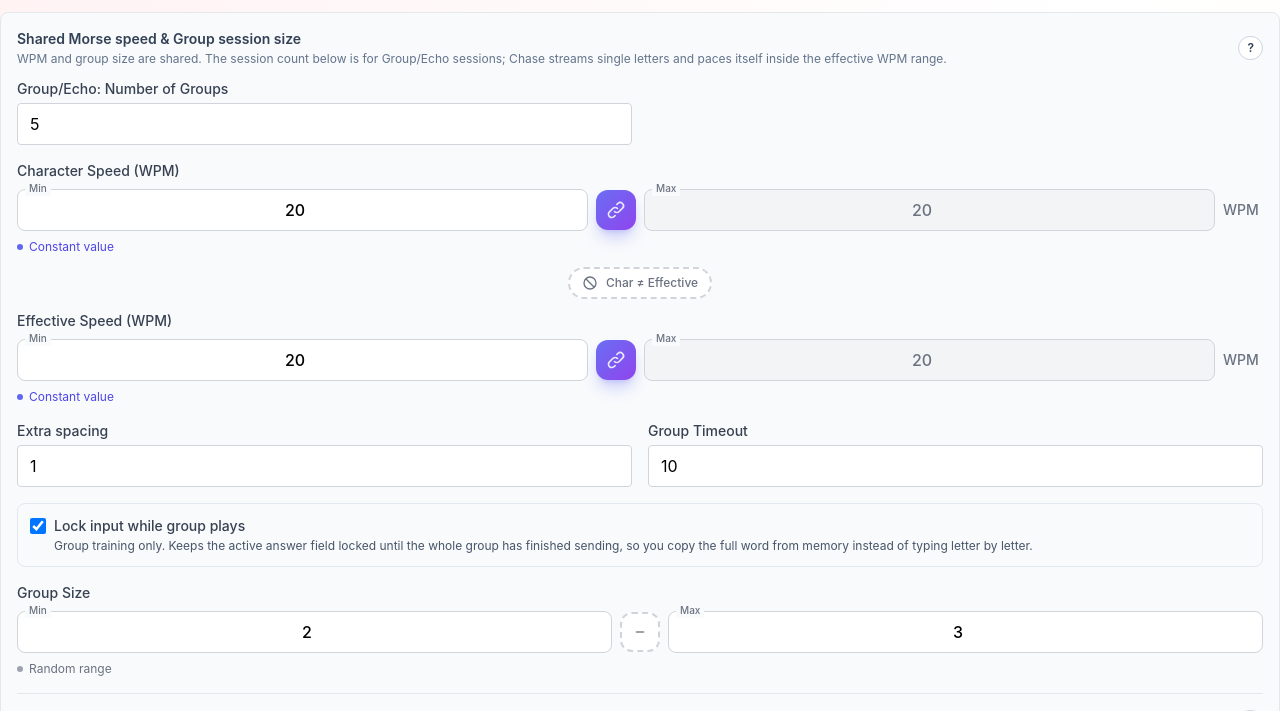
Test: TrainingSettingsForm › should handle invalid effectiveWpm input on blur
(page scrolled)
Step 1. Replace the text in the 4th number field with "-5" → (302, 360), box [17,339,588,381]
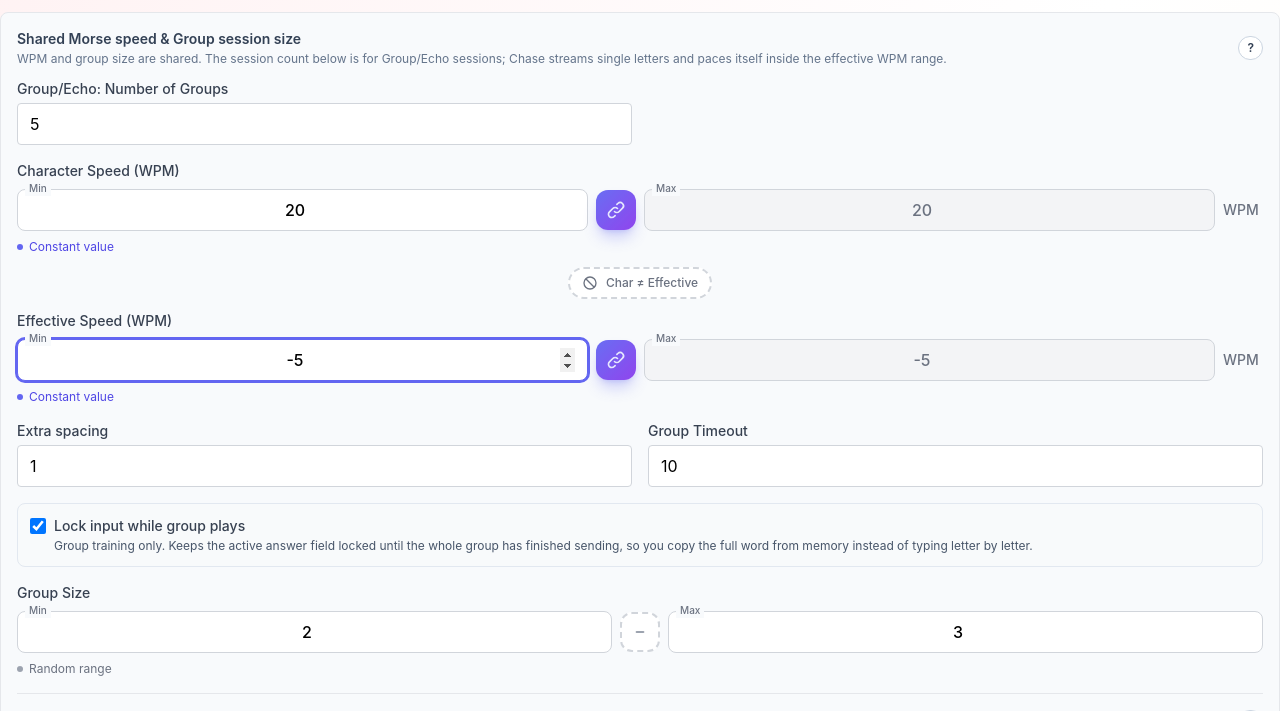
Step 2. Press Tab
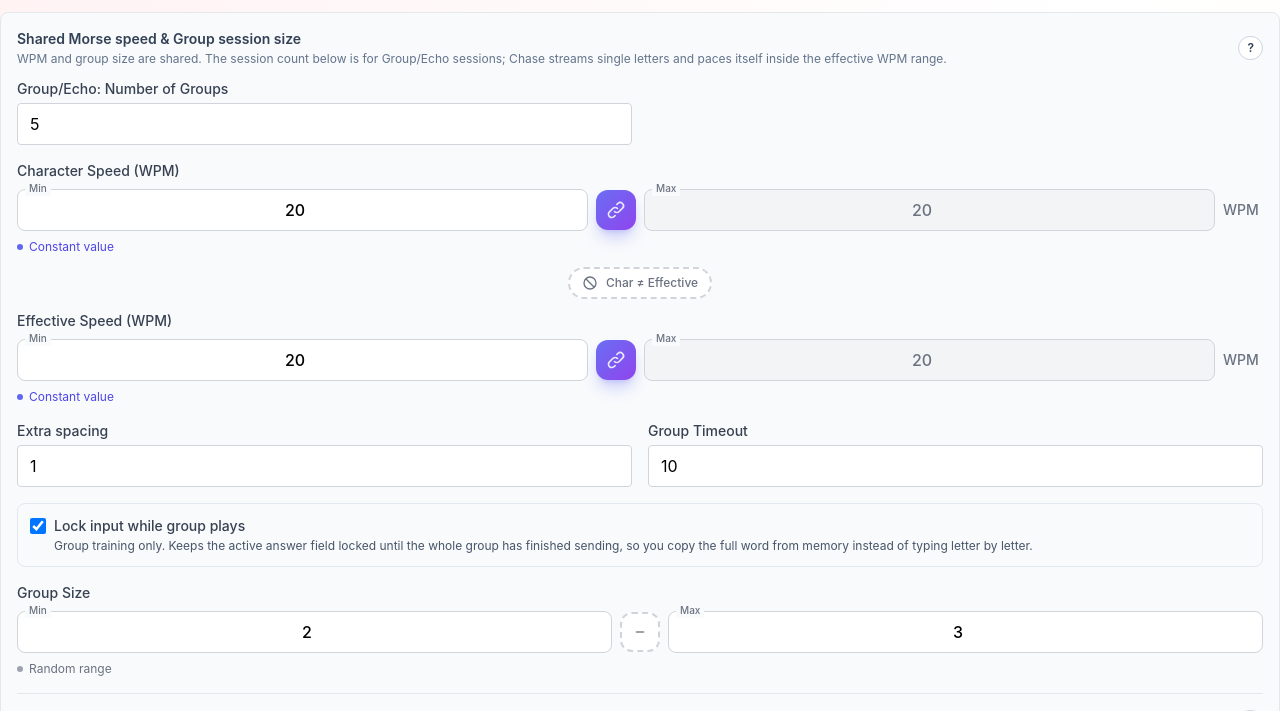
Now the 4th number field holds "20", box [17,339,588,381]
